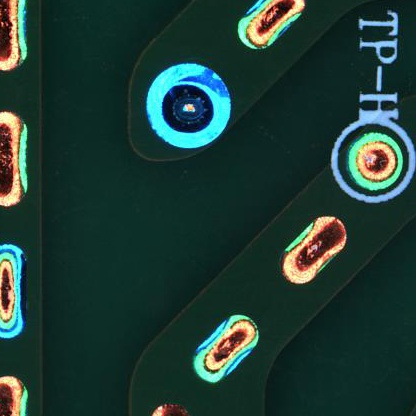spot: (136, 54, 238, 158), (335, 122, 407, 203)
